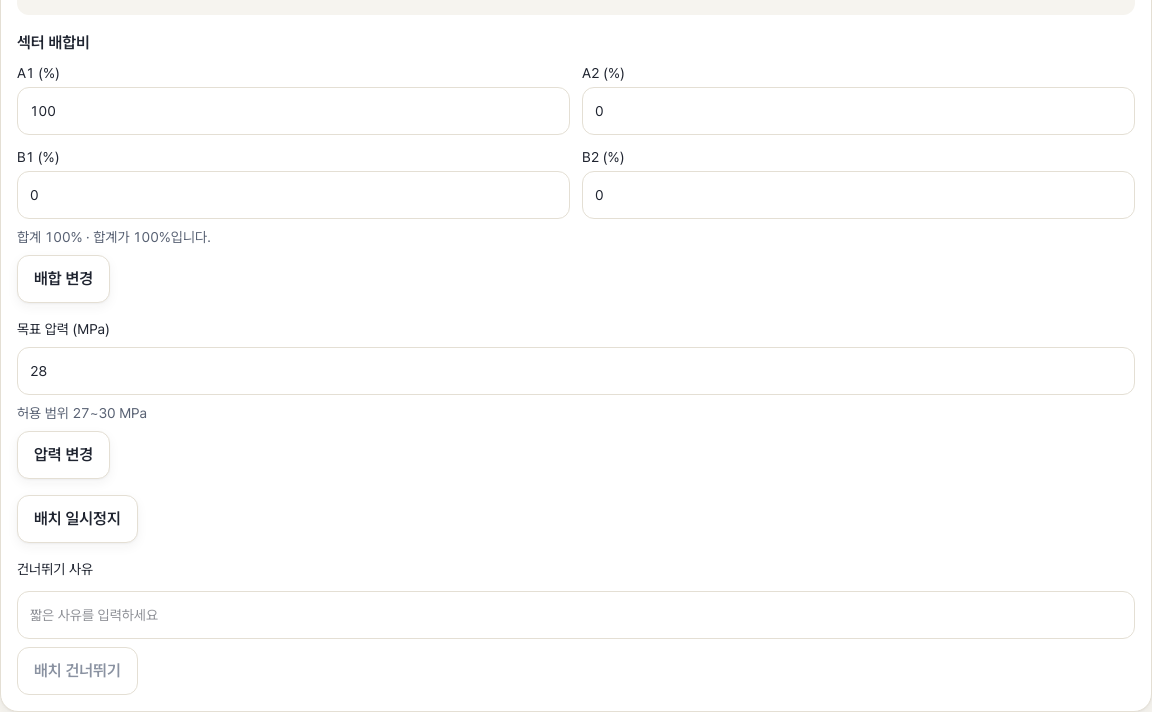
Scenario: 배치 수동 제어 › 사유가 있어야 건너뛰기 확인 단계로 간다
(page scrolled)
expect the button "배치 건너뛰기" is disabled: met, box top-left (17, 647), bottom-right (138, 695)
Type "품질 재점검" into the field labelled "건너뛰기 사유".
click(576, 615); type("품질 재점검")  # box top-left (17, 591), bottom-right (1135, 639)
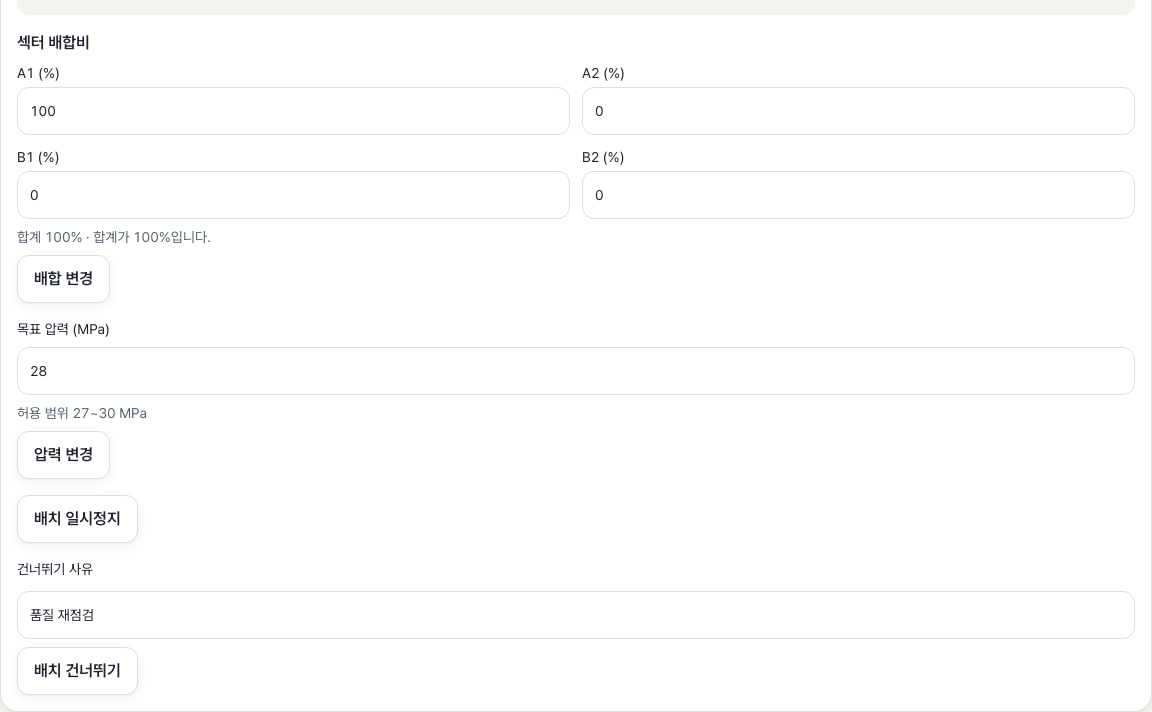
Click the button "배치 건너뛰기".
click(77, 671)  # box top-left (17, 647), bottom-right (138, 695)
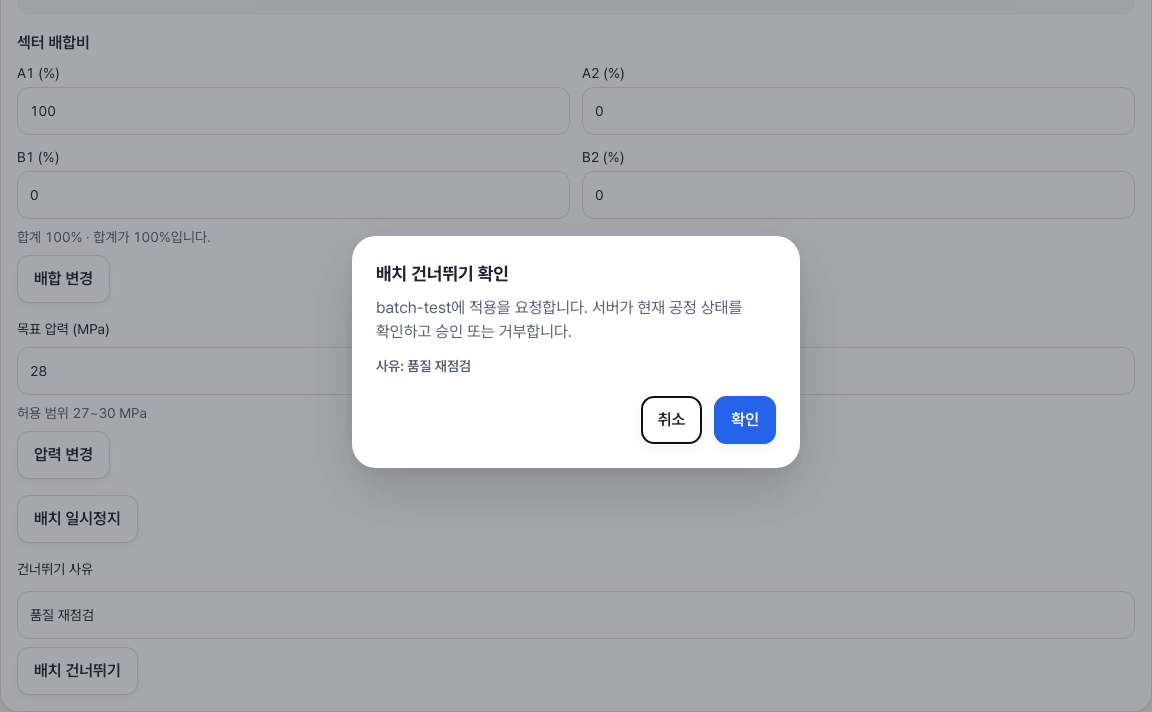
expect the text "사유: 품질 재점검" is shown: met, box top-left (376, 358), bottom-right (471, 374)
